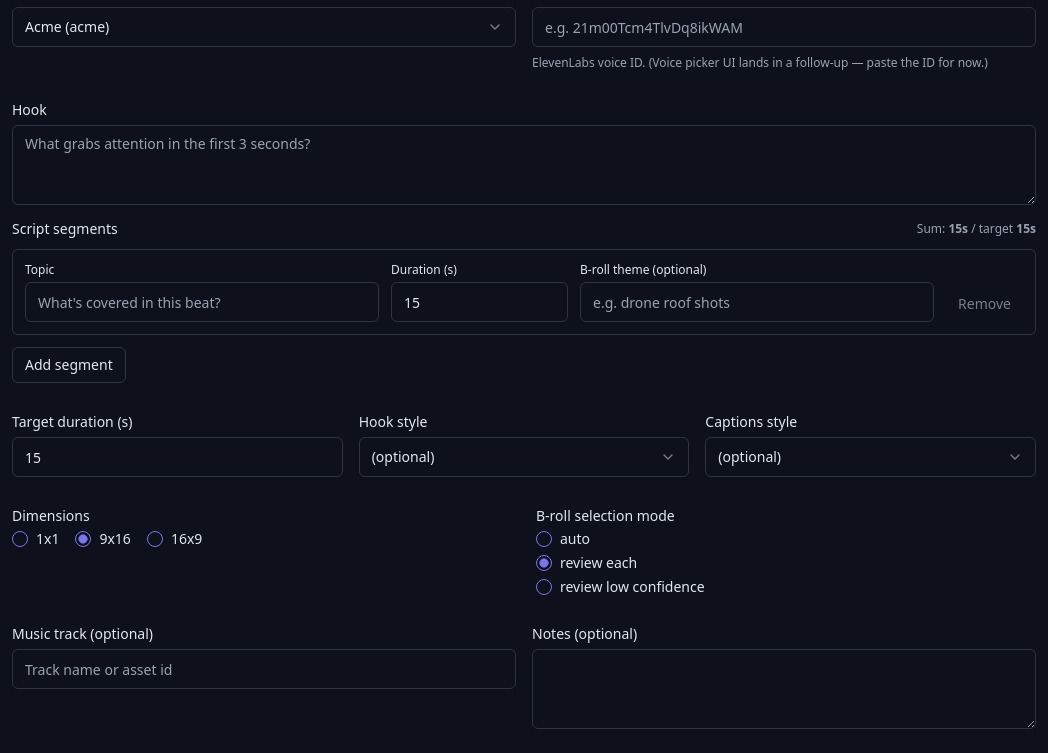
VideoBriefForm › falls back to String() coercion for non-Error throws
The width and height of the screenshot is (1048, 753).
In the field labelled "Topic": (202, 302) [25,282,379,322], type "intro"
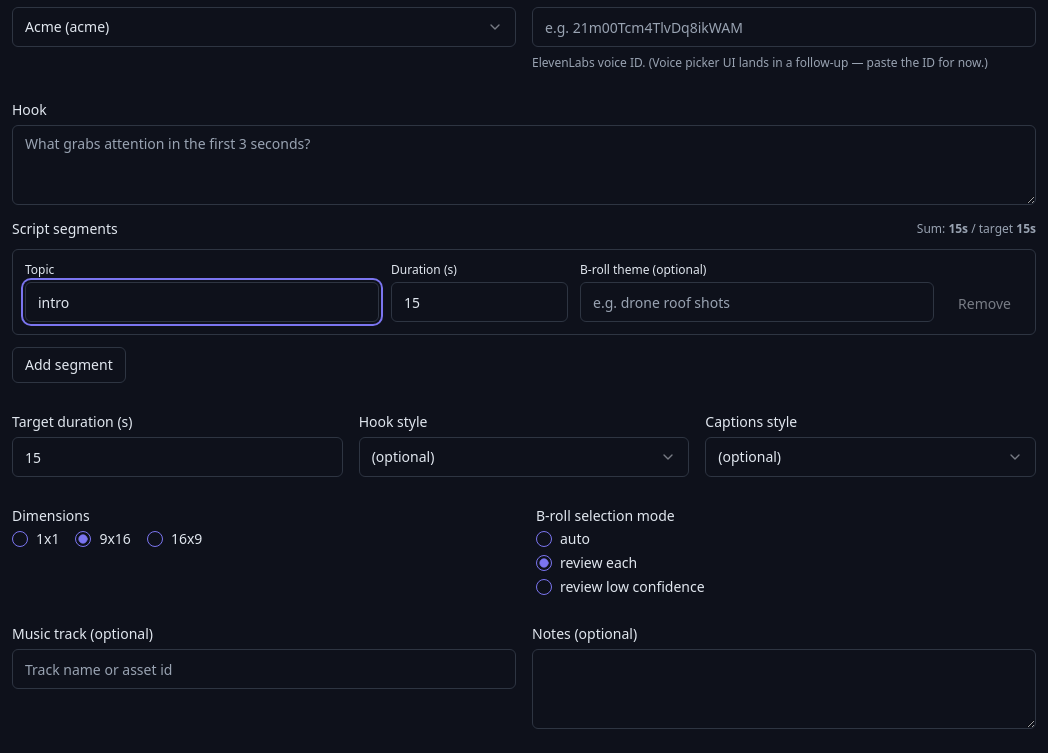
In the field labelled "Voice ID": (784, 27) [532,7,1036,47], type "voice-abc"
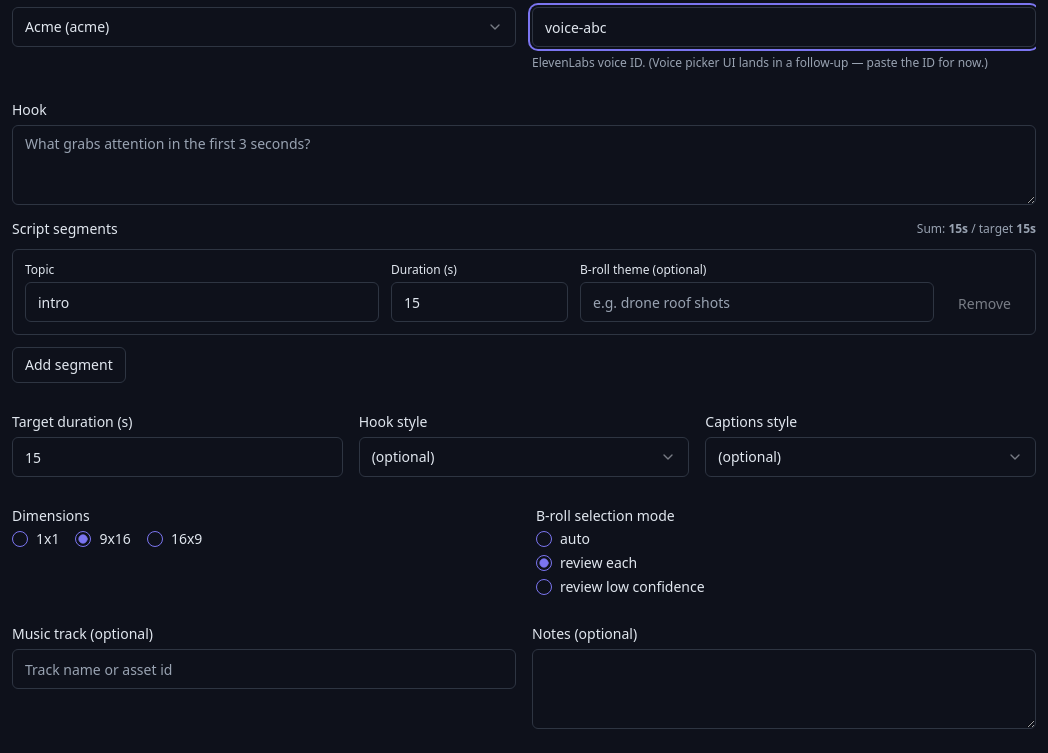
In the text box labelled "Hook": (524, 165) [12,125,1036,205], type "Stop scrolling now"
(page scrolled)
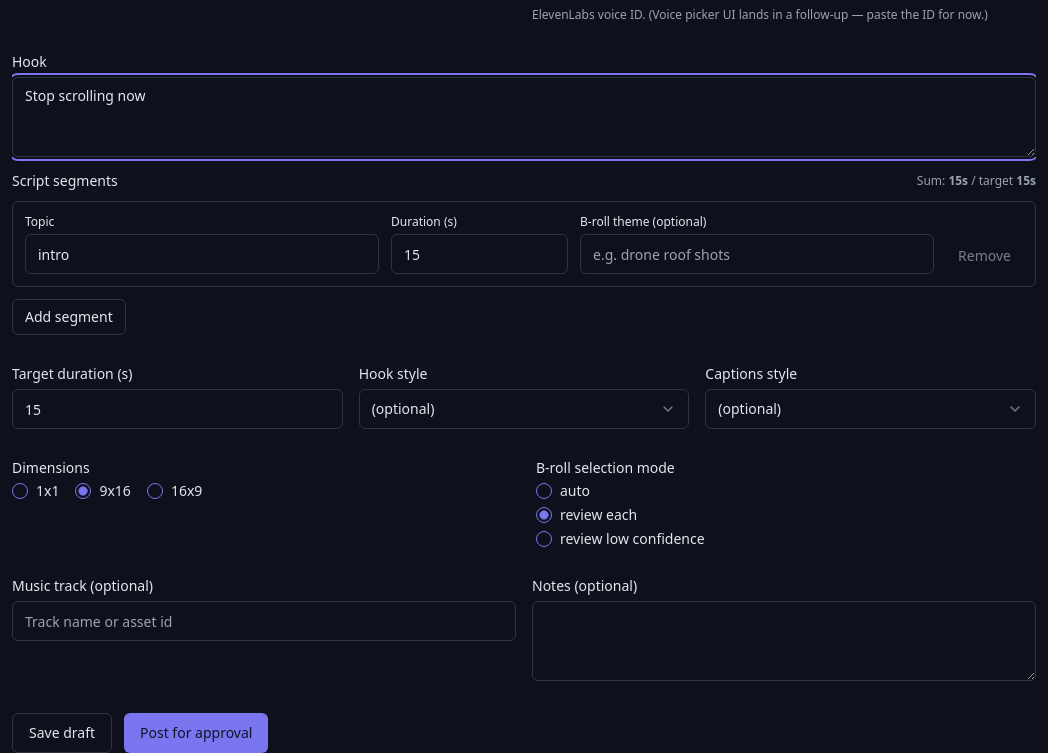
Click the button "Save draft": (62, 733) [12,713,112,752]
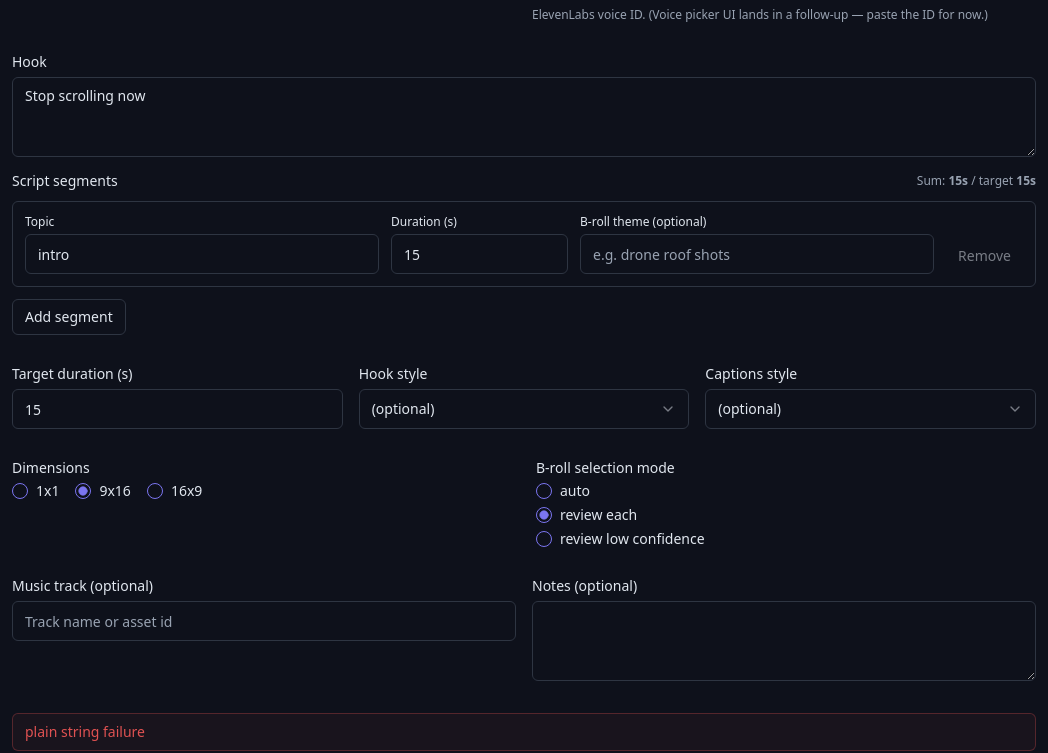
Expected: the text "plain string failure" is shown, [12,713,1036,751]
